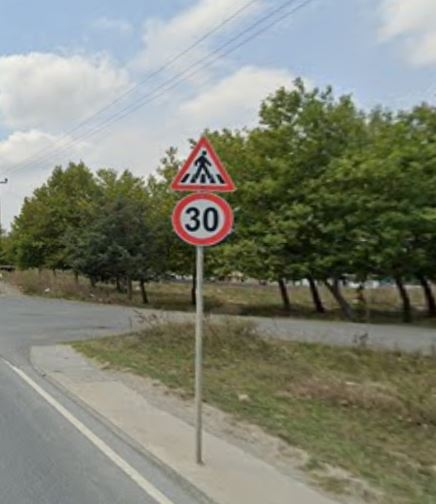30 Km Hiz Siniri: (168, 190, 237, 248)
Yaya Gecidi: (165, 136, 238, 189)
